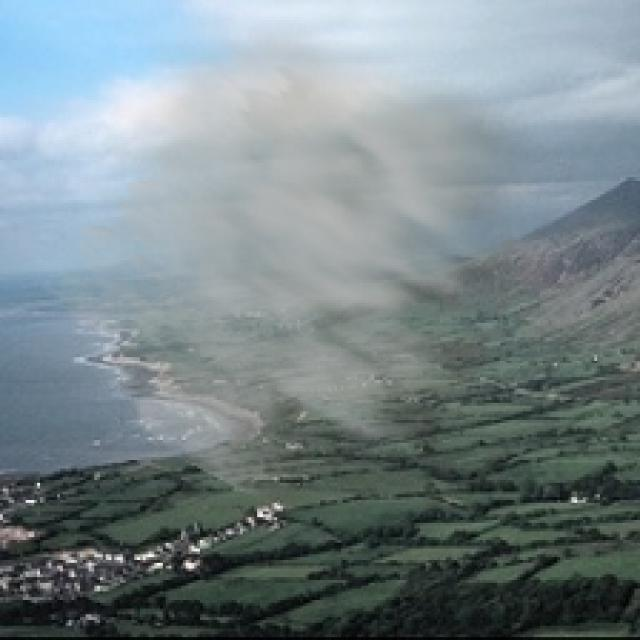Smoke: (37, 3, 580, 520)
